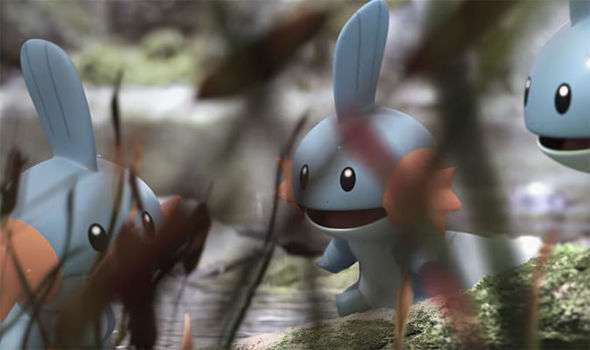mudkip: (270, 6, 472, 314), (1, 37, 202, 321), (511, 1, 589, 179)
